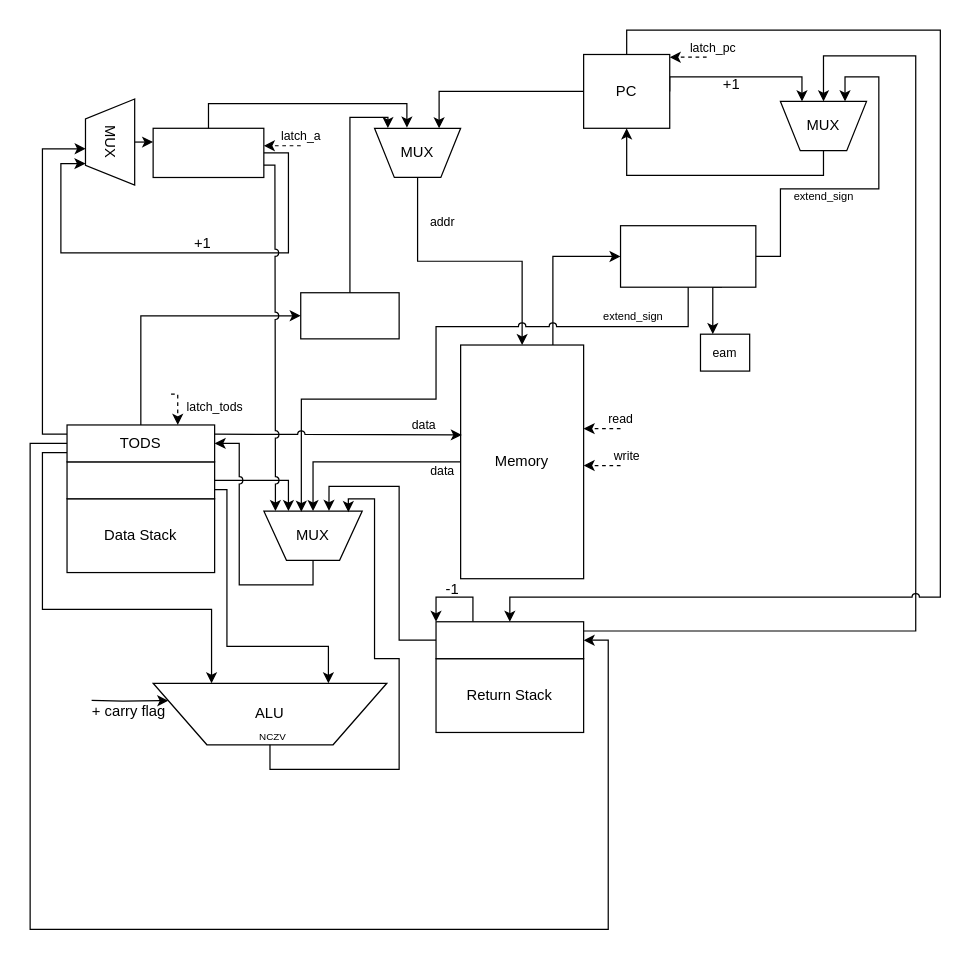
Image size: 972x961. Some labels were removed from this diagram. Each missing label, with the centre of its shape:
"Command" goes at (x=687, y=255).
"Register A" goes at (x=208, y=152).
"Register B" goes at (x=349, y=315).
"SODS" goes at (x=140, y=480).
"TORS" goes at (x=509, y=640).
